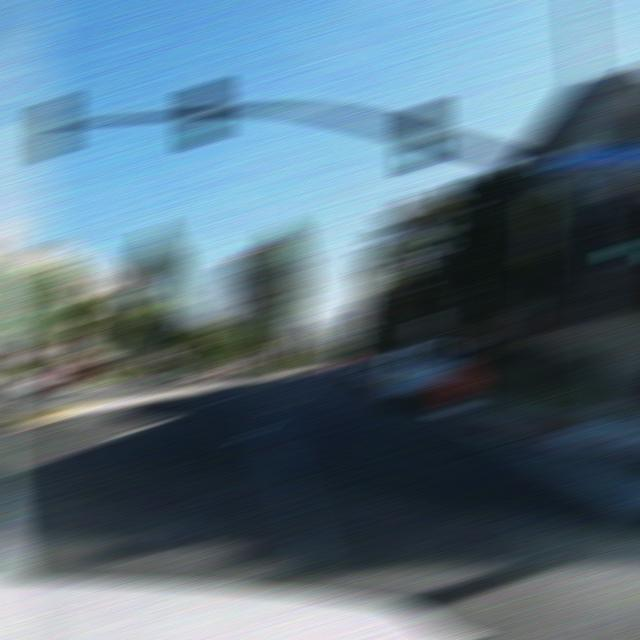speedLimit35: (412, 315, 442, 333)
